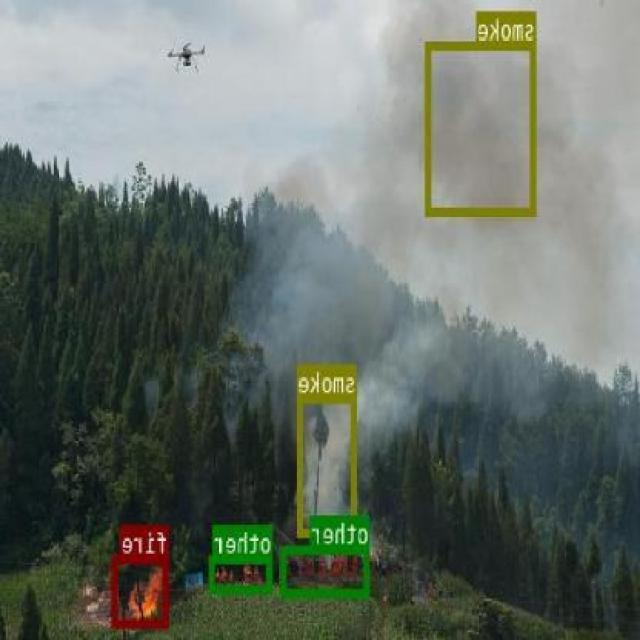Fire: (113, 554, 170, 626)
Smoke: (426, 40, 537, 214), (300, 393, 358, 536)
